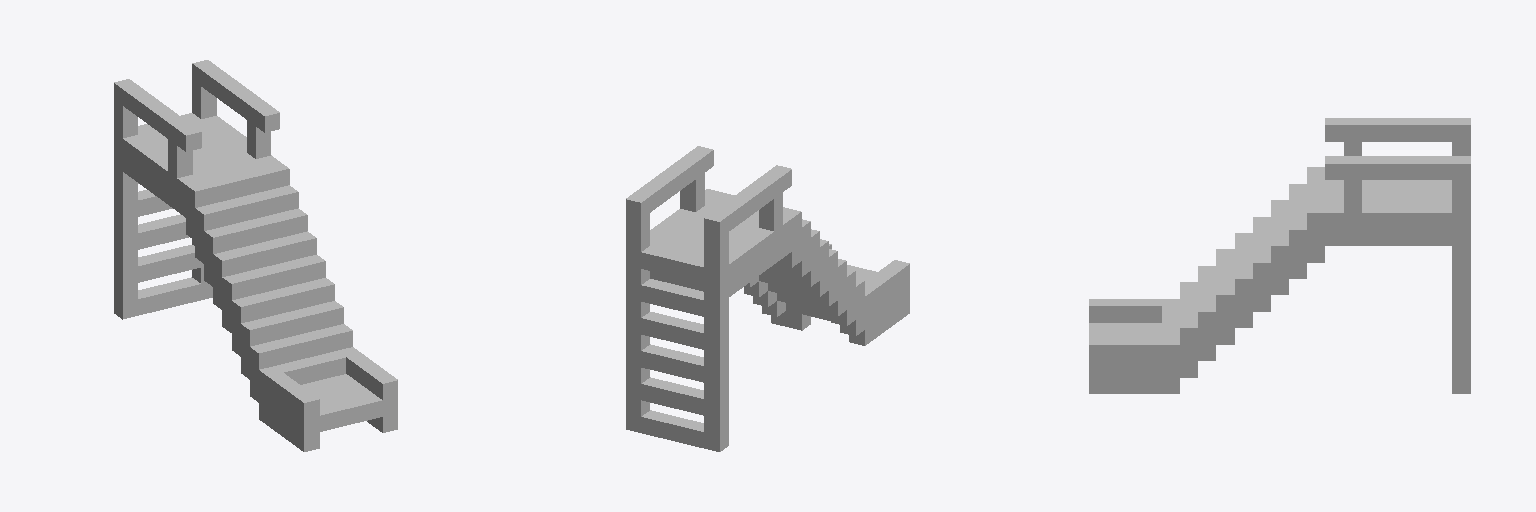
Rendered from ladder.obj.
3 renders of one model, left to right at view 1: azimuth 30°, elevation 25°; view 2: azimuth 150°, elevation 25°; view 3: azimuth 270°, elevation 25°, orthographic.
Visible parts, largest first — view 1: object 1; view 2: object 1; view 3: object 1.
Boxes of the visible parts, x1=… form: object 1: x1=114, y1=60, x2=397, y2=451; object 1: x1=626, y1=146, x2=909, y2=451; object 1: x1=1089, y1=118, x2=1470, y2=393.
Size of the model in its own units: 0.6 by 1.4 by 2.1.